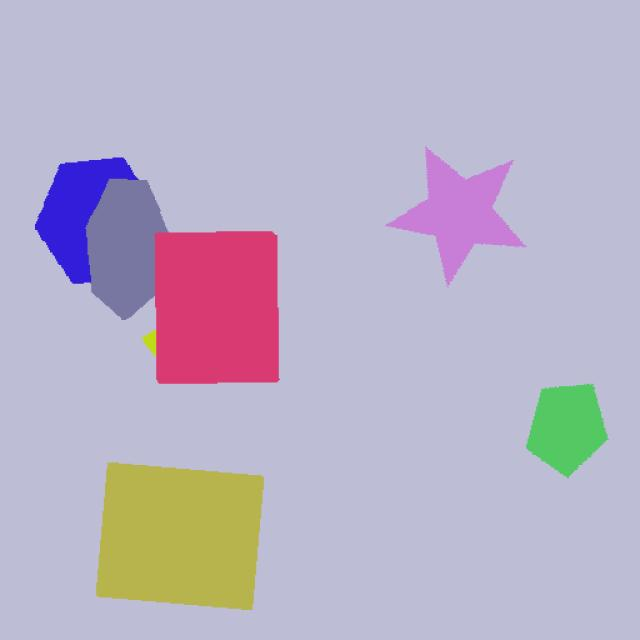Heptagon: (80, 171, 202, 319)
Hexagon: (4, 143, 150, 296)
Pentagon: (531, 362, 622, 500)
Rectangle: (83, 439, 299, 615), (142, 218, 292, 400)
Star: (367, 140, 564, 303)
